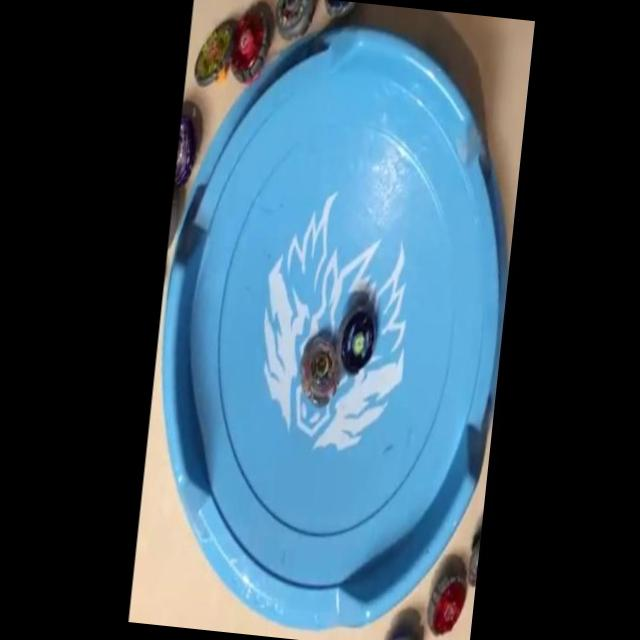Beyblade: (224, 4, 274, 86), (296, 334, 342, 407), (332, 304, 378, 376), (424, 566, 469, 638), (192, 20, 232, 89), (272, 0, 315, 43)
